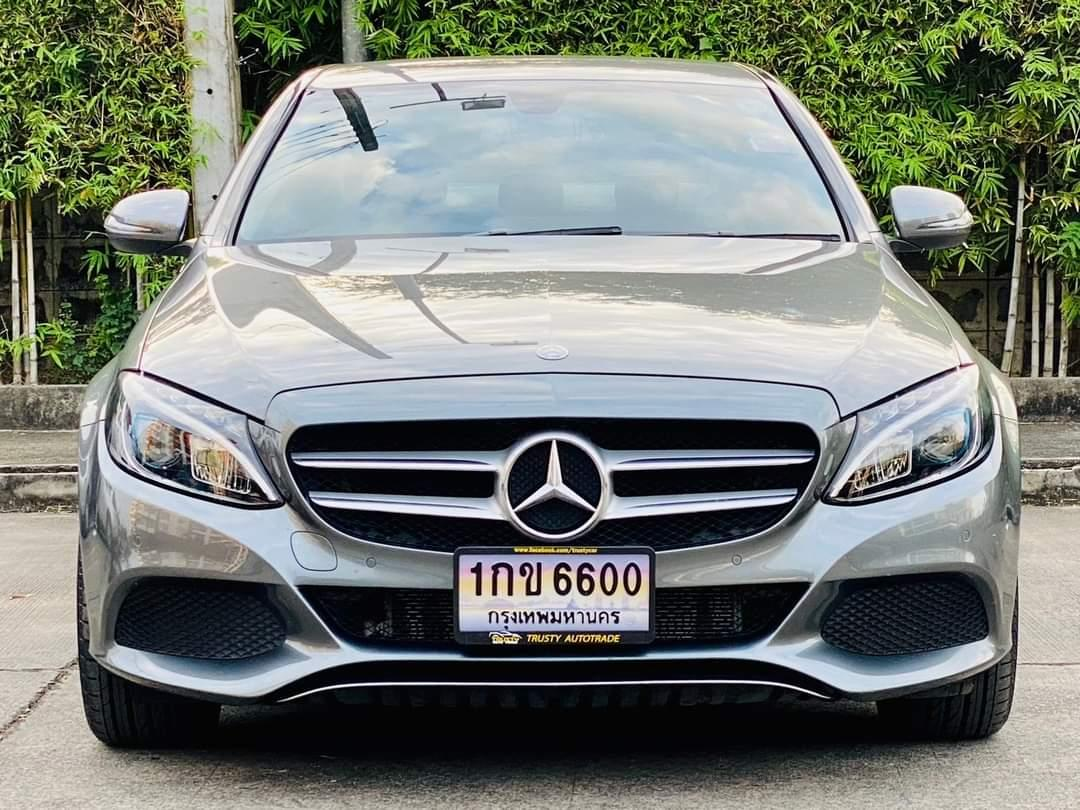license-plate: (448, 544, 657, 650)
